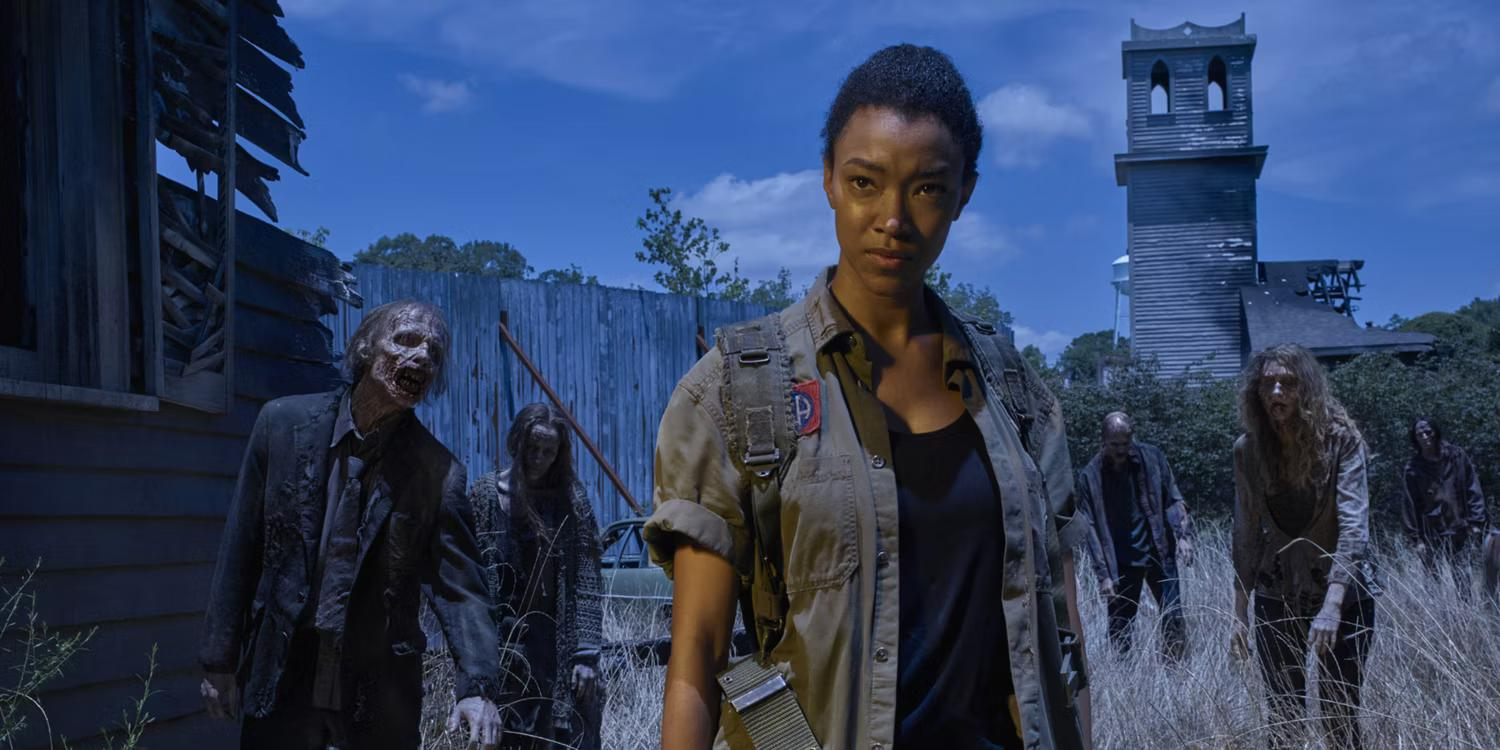Zombie: (361, 301, 457, 427), (1246, 356, 1319, 444), (511, 411, 575, 494), (1103, 405, 1139, 474), (1408, 420, 1452, 458)
